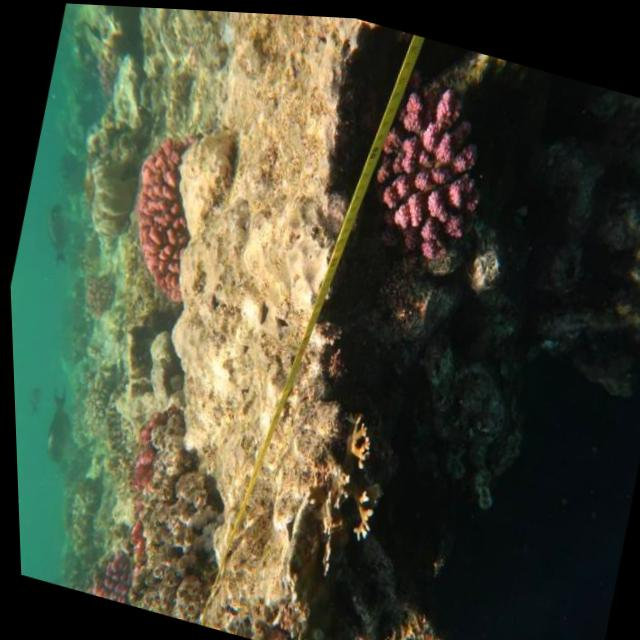Healthy Coral: (353, 78, 500, 261), (105, 116, 215, 314), (73, 538, 142, 606)
